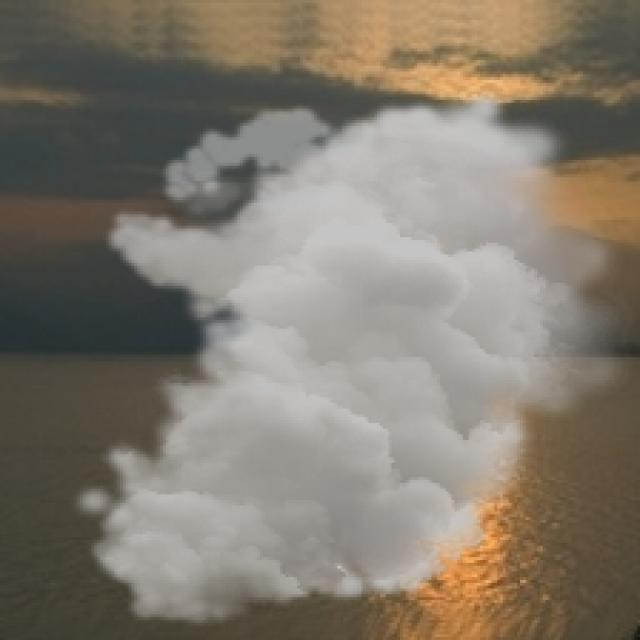Smoke: (68, 89, 638, 628)
